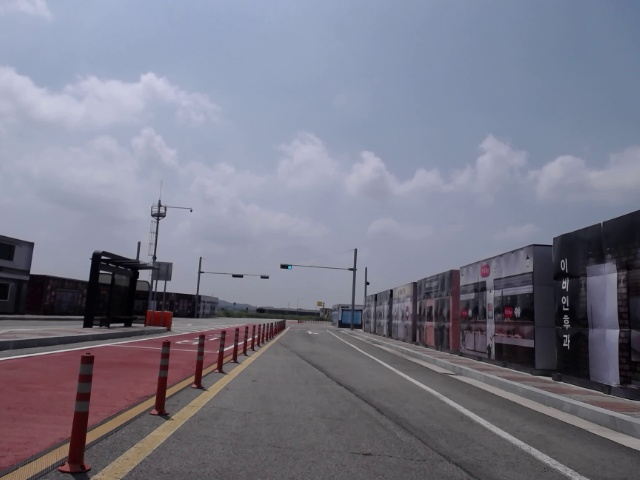green_3: (279, 263, 293, 270)
